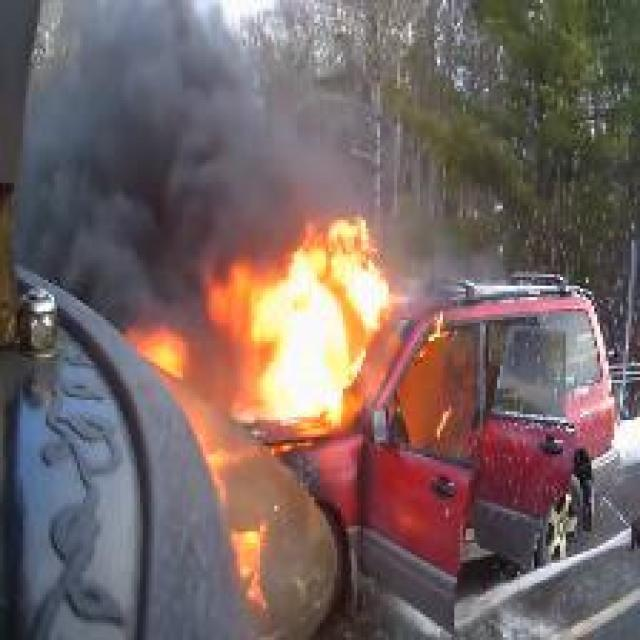Fire: (252, 232, 390, 424)
Smoke: (18, 0, 204, 308), (208, 1, 384, 228)
